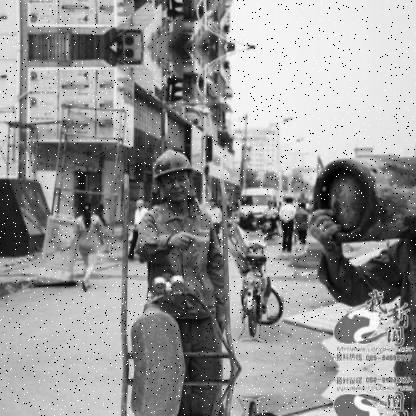Helmet: (147, 147, 198, 203)
